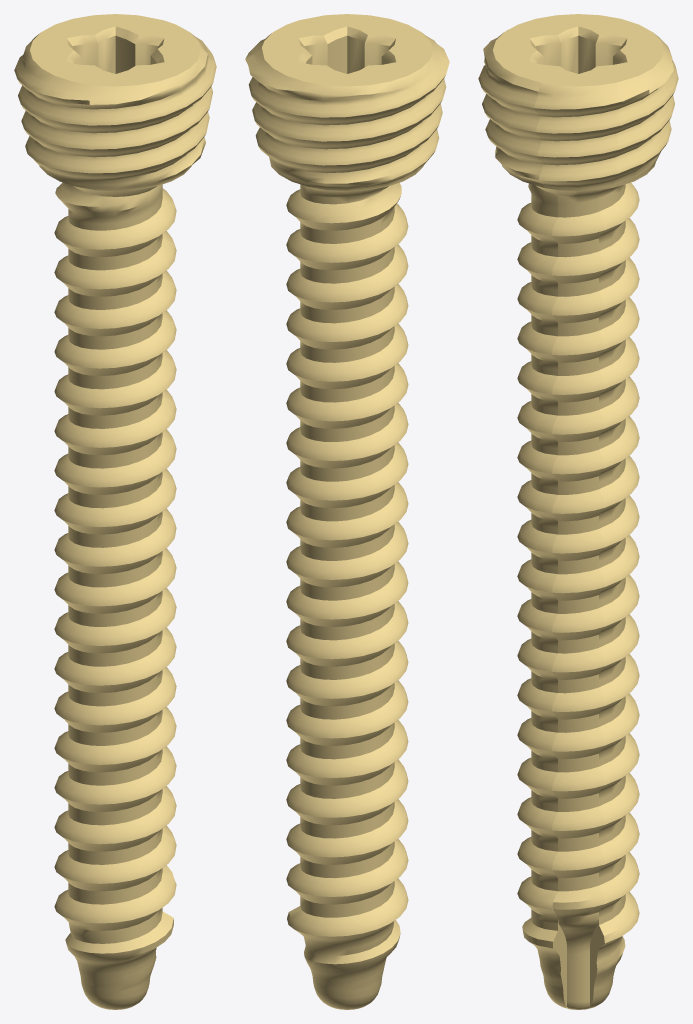
The model's file is os35_locking_3p5x30_lod1.glb.
The picture shows the model from 3 angles, left to right: view 1: azimuth 30°, elevation 25°; view 2: azimuth 150°, elevation 25°; view 3: azimuth 270°, elevation 25°; orthographic projection.
Visible parts, largest first — view 1: os35_locking_3p5x30; view 2: os35_locking_3p5x30; view 3: os35_locking_3p5x30.
Boxes of the visible parts, x1,y1,x2,y2 form: os35_locking_3p5x30: (14, 14, 216, 1009); os35_locking_3p5x30: (245, 14, 449, 1009); os35_locking_3p5x30: (478, 14, 678, 1009).
Bounding box in the file's own units: 0.00582 × 0.03 × 0.00572.
